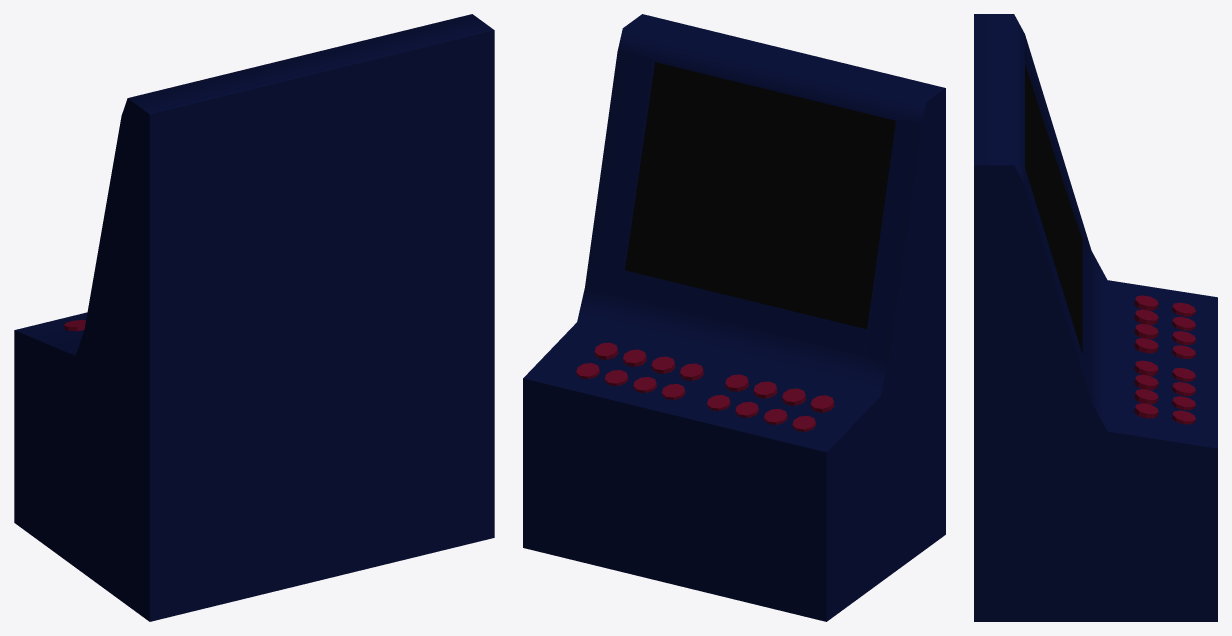
File: TheBigComputer.fbx
3 views of the same model, side by side, from view 1: azimuth 30°, elevation 25°; view 2: azimuth 150°, elevation 25°; view 3: azimuth 270°, elevation 25° (orthographic). The views are drawn at different scales.
Visible parts, largest first — view 1: polySurface69; view 2: polySurface69; view 3: polySurface69.
Boxes of the visible parts, x1,y1,x2,y2 form: polySurface69: [14, 14, 494, 621]; polySurface69: [523, 14, 945, 621]; polySurface69: [974, 14, 1217, 621].
Size of the model in its own units: 0.9816 by 1.38 by 0.6678.
